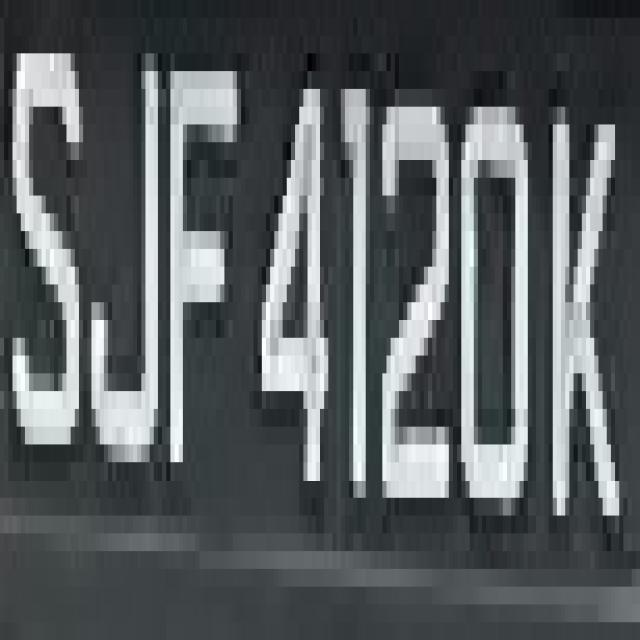0: (453, 71, 540, 516)
1: (332, 53, 374, 516)
2: (374, 54, 449, 534)
4: (250, 18, 332, 551)
F: (154, 18, 245, 516)
J: (83, 36, 162, 480)
K: (536, 89, 623, 587)
S: (0, 17, 91, 462)
